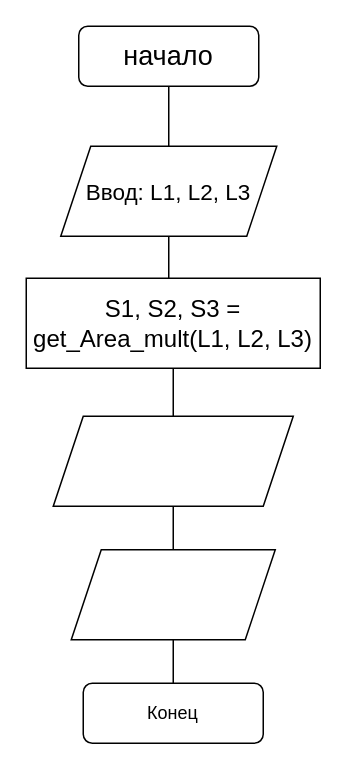
This 347x770 diagram has some shape labels left out. Here are the shapes that lost their labels. From the top down, the centre of each, then its label:
point (172, 460): Вывод: S1, S2, S3
point (172, 594): Вывод S1, S2, S3 в файл
